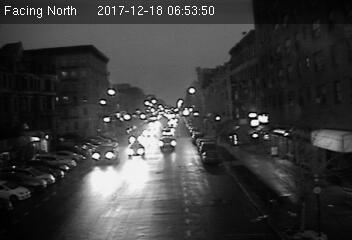car: (91, 144, 120, 166), (126, 141, 147, 157), (157, 136, 178, 151), (200, 150, 220, 162)
